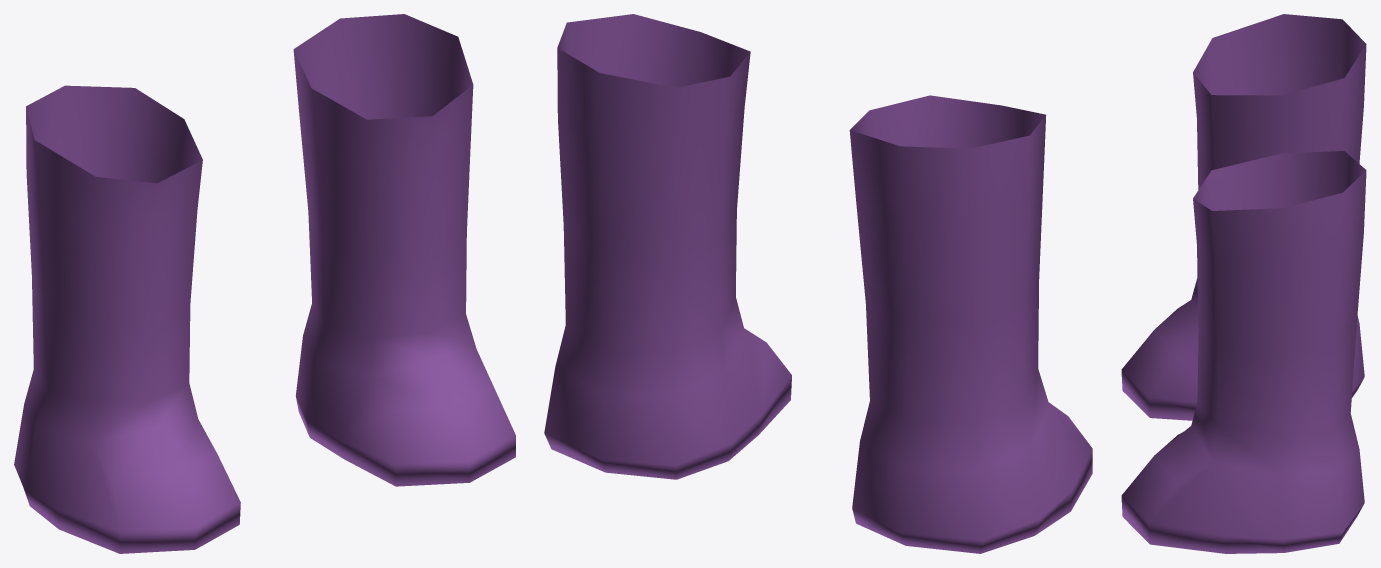
The model's file is Body_Purple_LegA_1.fbx.
3 renders of one model, left to right at view 1: azimuth 30°, elevation 25°; view 2: azimuth 150°, elevation 25°; view 3: azimuth 270°, elevation 25°, orthographic. The views are drawn at different scales.
Parts seen in each view (by area): view 1: Body_Purple_LegA_1; view 2: Body_Purple_LegA_1; view 3: Body_Purple_LegA_1.
Part boxes in pixels (<box>): Body_Purple_LegA_1: <box>14,14,515,553</box>; Body_Purple_LegA_1: <box>544,14,1092,553</box>; Body_Purple_LegA_1: <box>1121,14,1366,553</box>.
Bounding box in the file's own units: 32.81 × 26.18 × 16.71.
